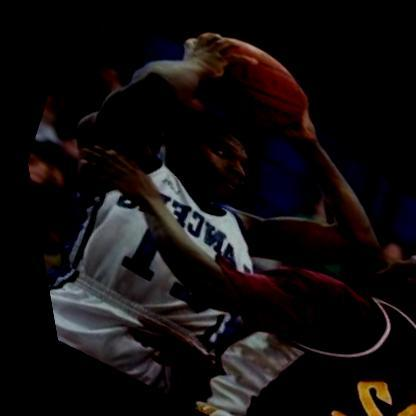basketball: (170, 13, 331, 151)
